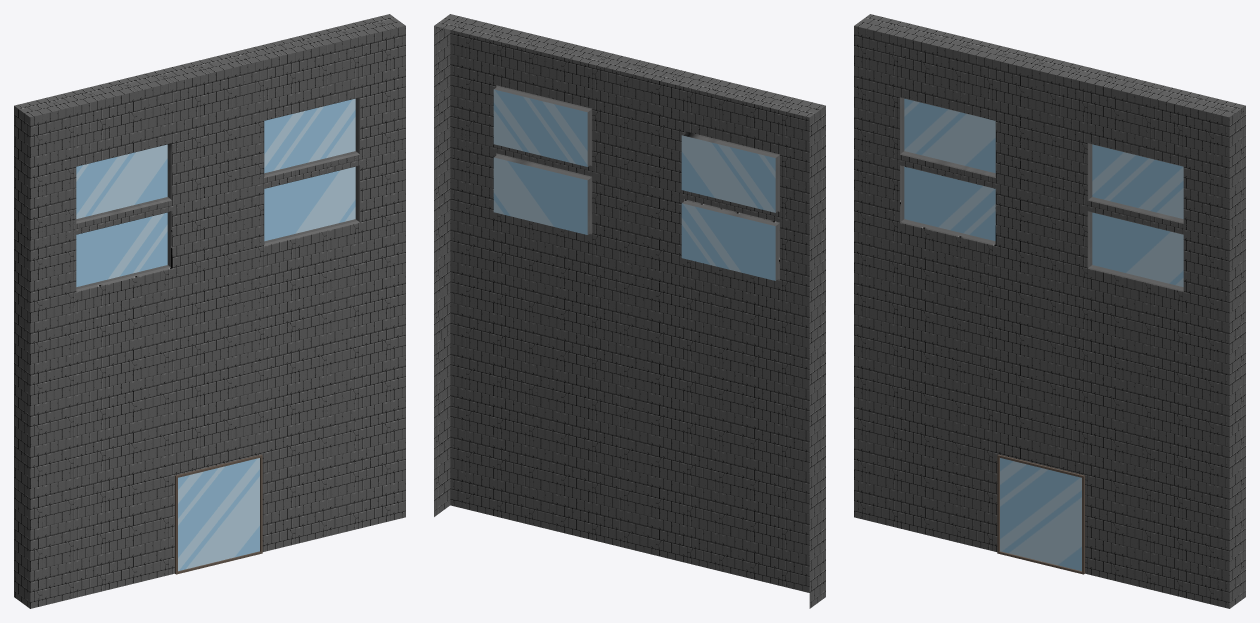
The model's file is Wall_Door.fbx.
3 renders of one model, left to right at view 1: azimuth 30°, elevation 25°; view 2: azimuth 150°, elevation 25°; view 3: azimuth 330°, elevation 25°, orthographic.
Parts seen in each view (by area): view 1: WALL, GlassWindow, GlassDoor, KrobDoor; view 2: WALL, GlassWindow; view 3: WALL, GlassWindow, GlassDoor, KrobDoor.
Part boxes in pixels (x1,y1,x2,y2): WALL: [14, 14, 405, 608]; GlassWindow: [76, 98, 355, 286]; GlassDoor: [178, 458, 259, 571]; KrobDoor: [175, 454, 262, 574]; WALL: [434, 14, 825, 608]; GlassWindow: [493, 89, 775, 280]; WALL: [854, 14, 1245, 608]; GlassWindow: [904, 98, 1183, 286]; GlassDoor: [1000, 458, 1081, 571]; KrobDoor: [997, 454, 1084, 574].
Size of the model in its own units: 800 by 1000 by 64.58.
Materials: 4 (4 with a texture image).
